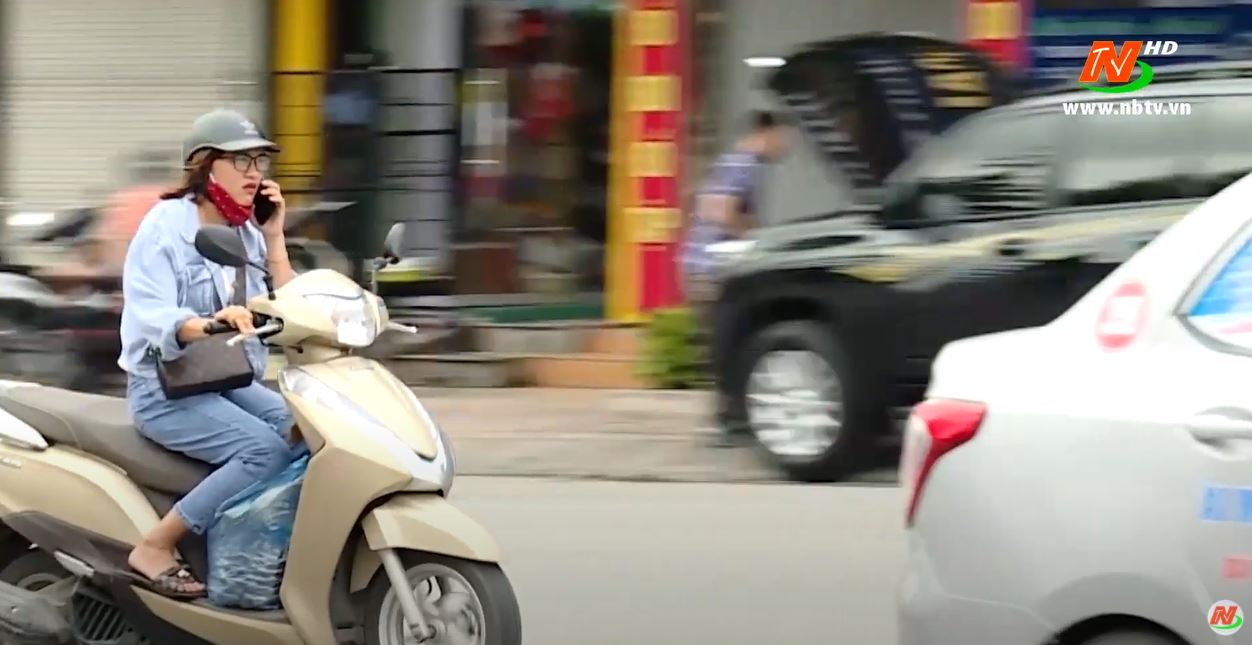dieu khien xe may: (125, 104, 452, 628)
su dung dien thoai: (179, 107, 287, 237)
